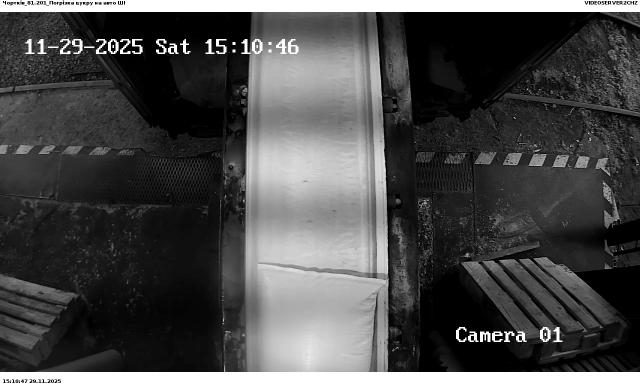bag: (256, 264, 387, 372)
